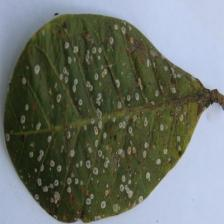red rust: (3, 13, 223, 224)
